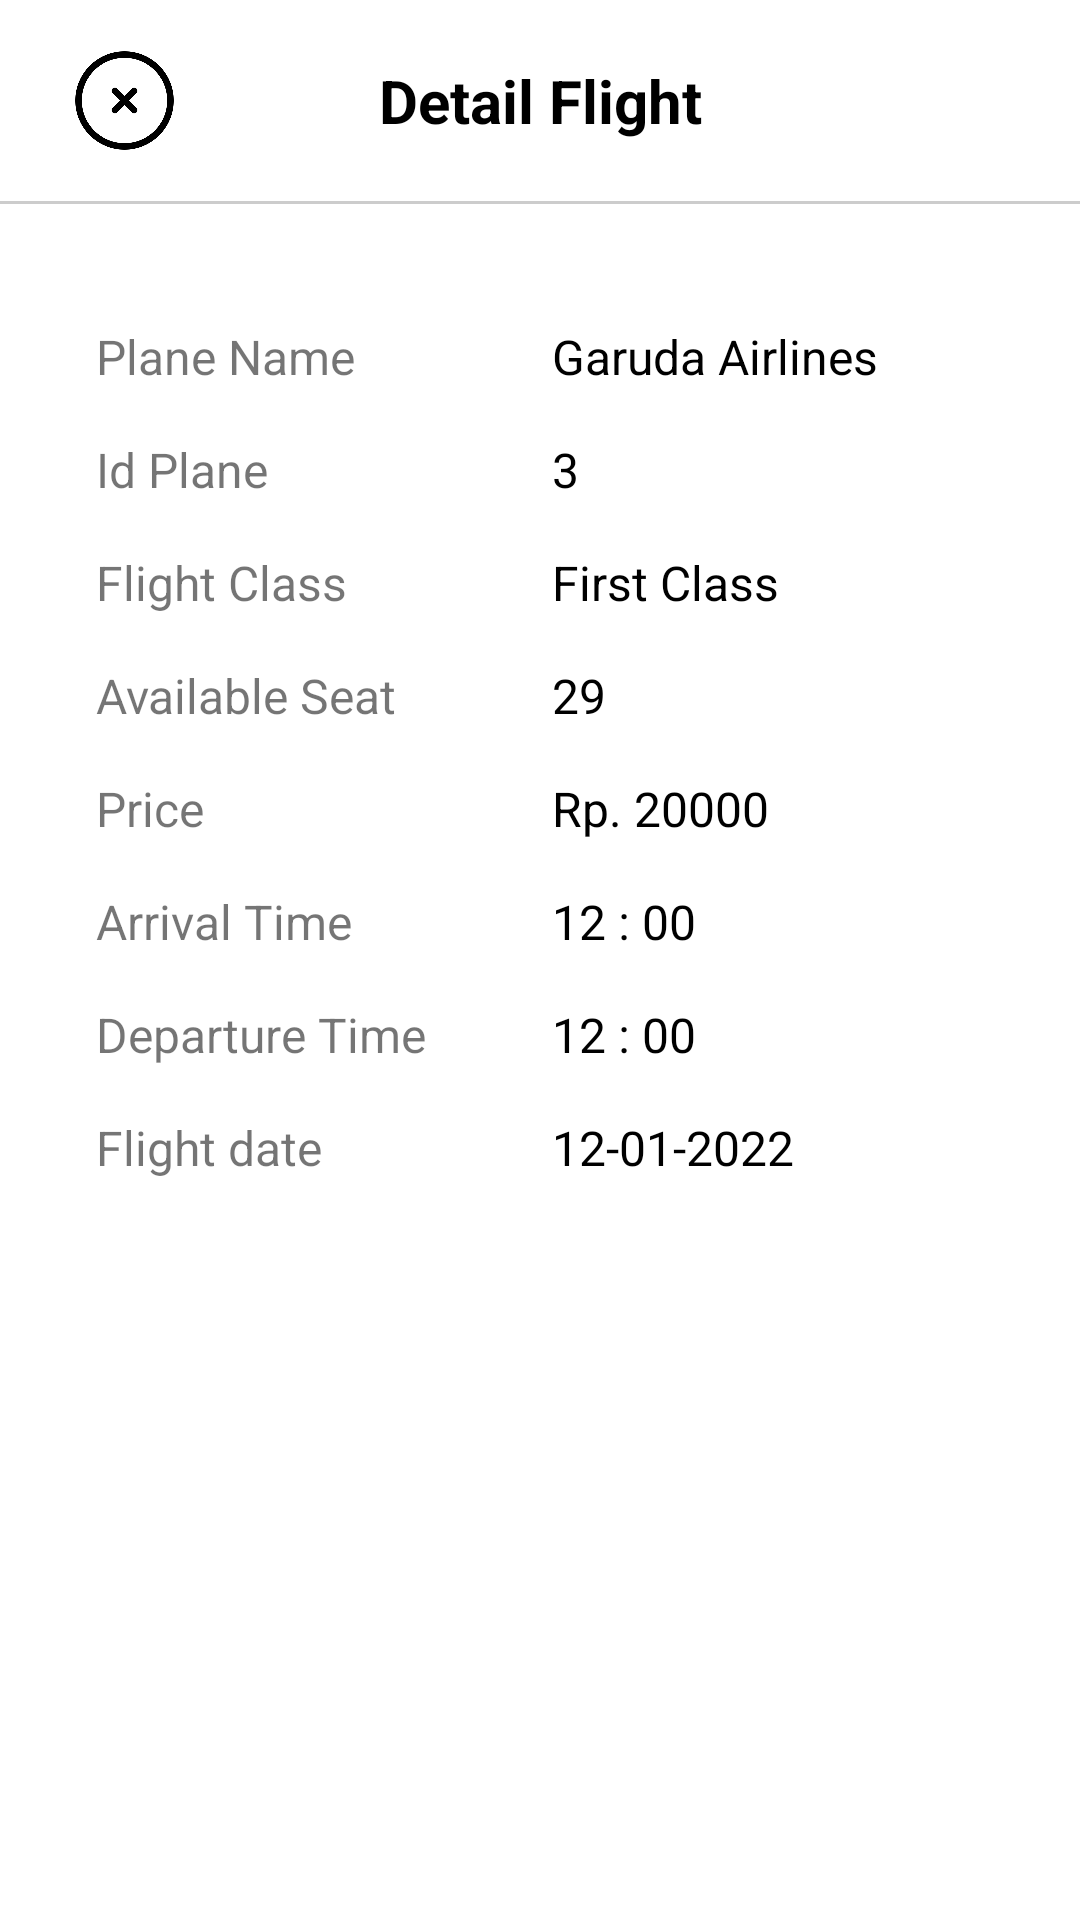

Where to tap for icons on this 1080x1920 app screen, as point (x, y):
close flight: point (124, 100)
